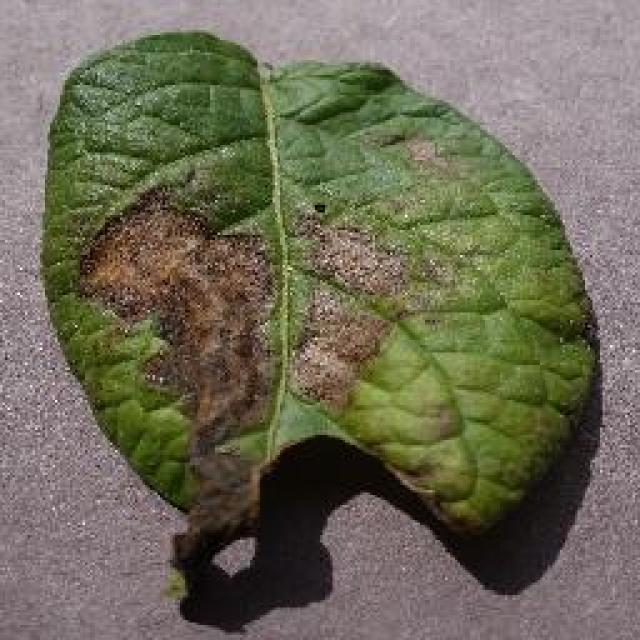Potato___Late_blight: (38, 27, 600, 577)
